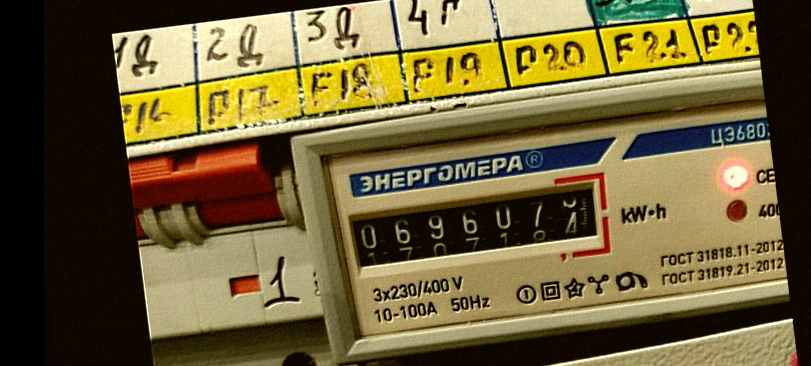0: (494, 200, 516, 232), (361, 221, 381, 251)
4: (562, 207, 583, 238)
6: (461, 205, 482, 236), (394, 216, 415, 246)
7: (528, 197, 551, 230)
9: (427, 211, 448, 241)
screen: (336, 167, 621, 285)
